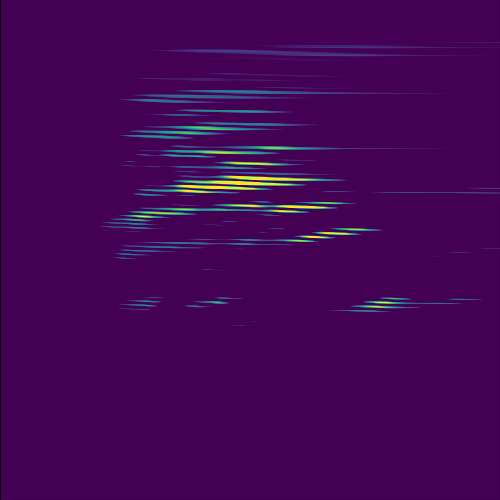semblance: (163, 173, 334, 197), (279, 223, 377, 246), (352, 291, 423, 317), (266, 198, 349, 219)
